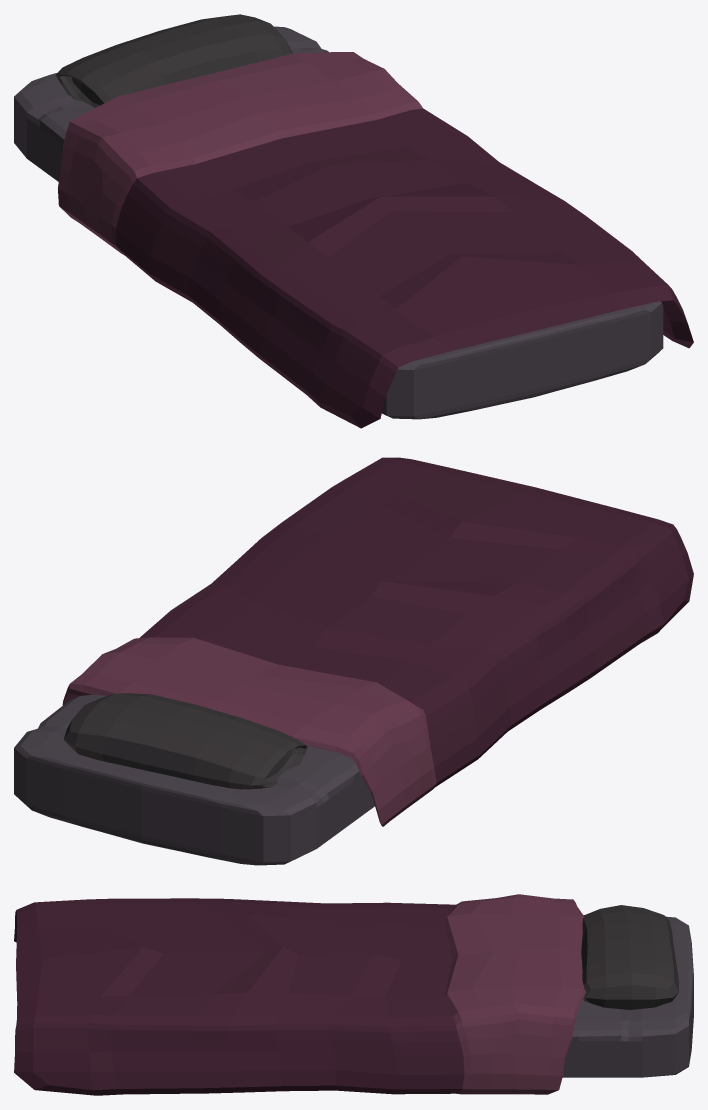
Rendered from bed.fbx.
The picture shows the model from 3 angles, top to bottom: view 1: azimuth 30°, elevation 25°; view 2: azimuth 150°, elevation 25°; view 3: azimuth 270°, elevation 25°; orthographic projection. The views are drawn at different scales.
Parts seen in each view (by area): view 1: Comforter; view 2: Comforter; view 3: Comforter.
Boxes of the visible parts, left/top/right/bottom form: Comforter: left=14, top=14, right=693, bottom=428; Comforter: left=14, top=457, right=693, bottom=865; Comforter: left=14, top=894, right=693, bottom=1095.
Size of the model in its own units: 205 by 60.1 by 407.
